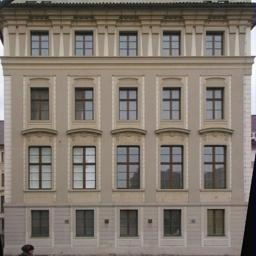building: (1, 0, 244, 256)
